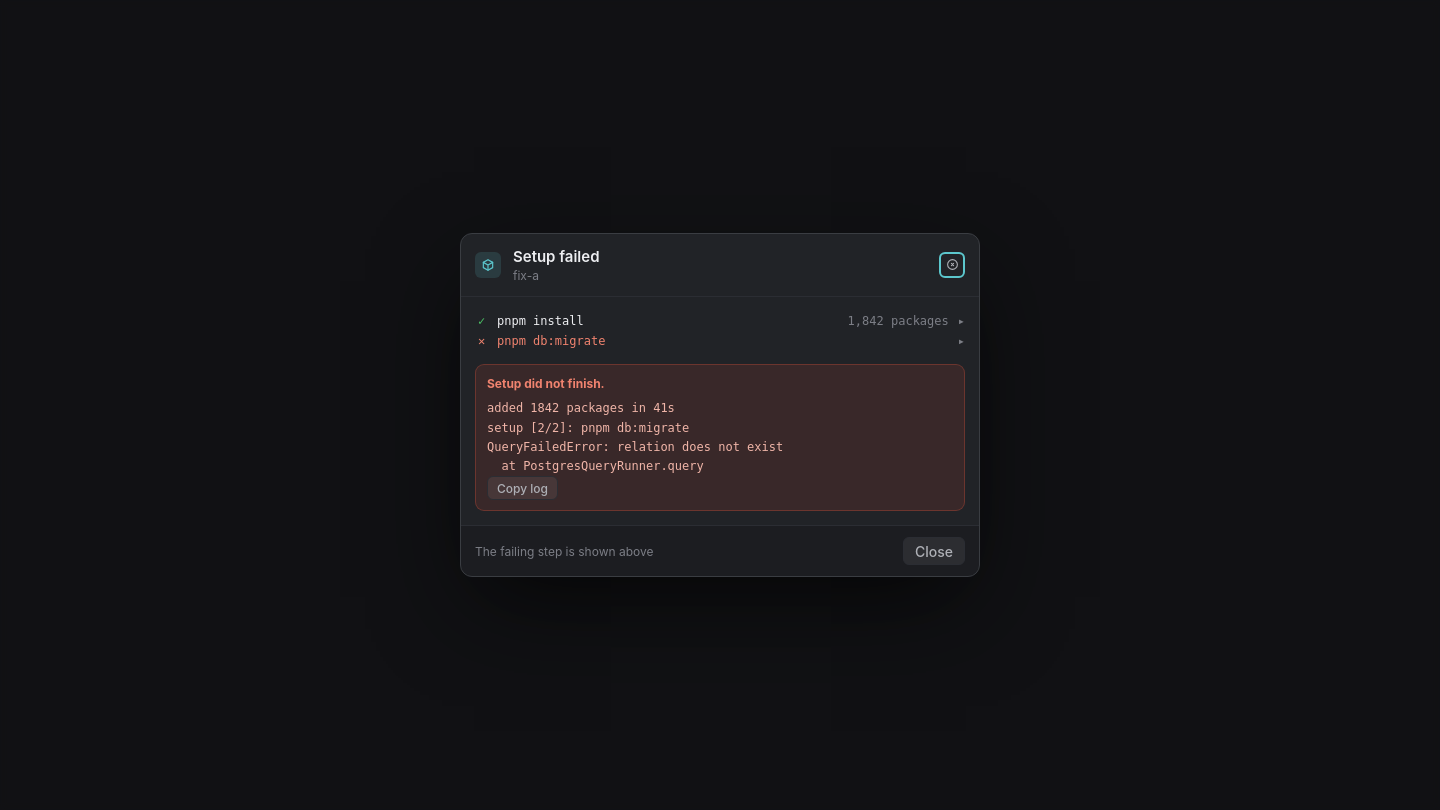
Test: the setup runner › leaves the failed step collapsed, and prints the failure once
Expected: the text "QueryFailedError" is shown, [487, 401, 783, 473]
// still openable for anyone who wants it beside the step
Click the button "✕ pnpm db:migrate ▸". click: click(551, 341)
box: [475, 334, 965, 348]
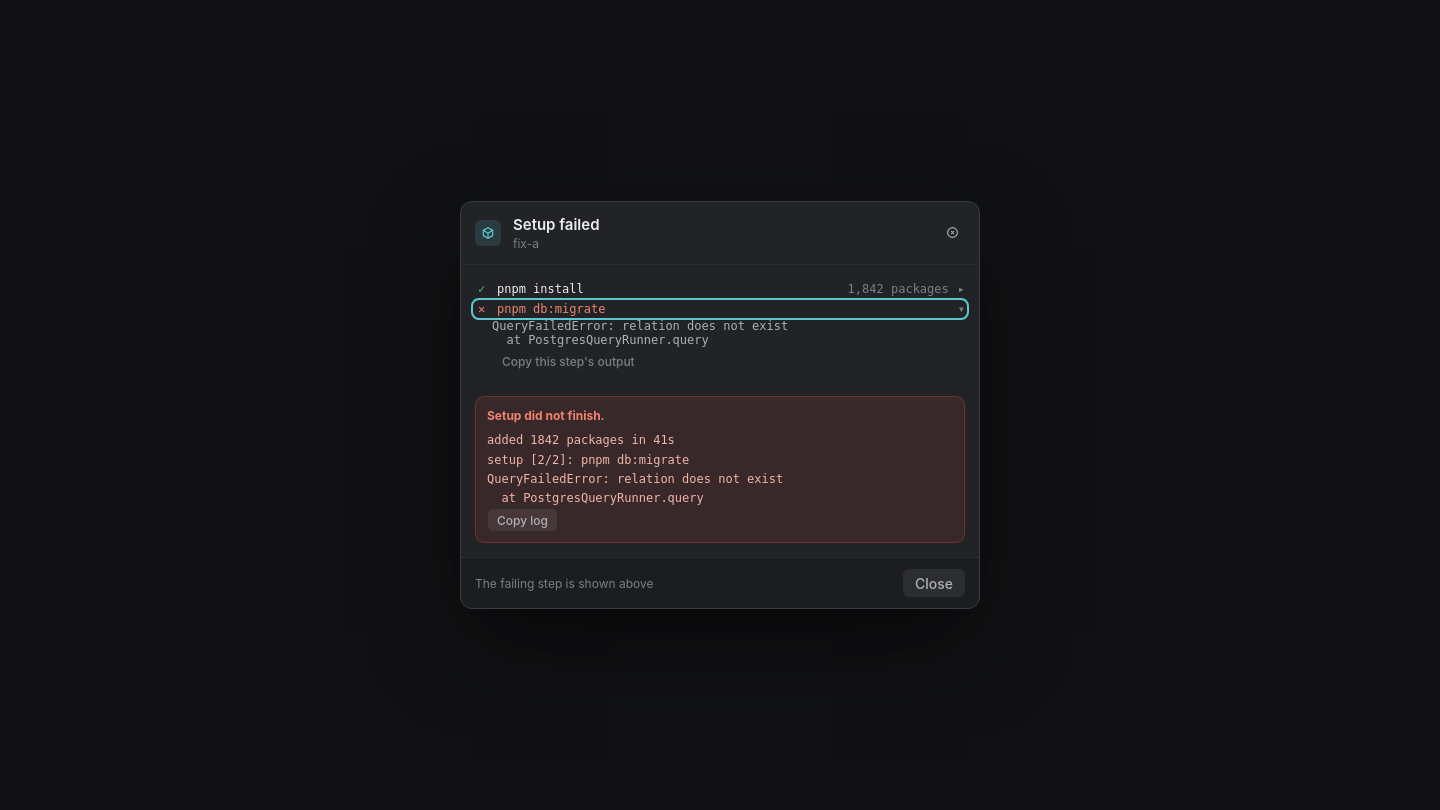
Result: the text "QueryFailedError" is shown at [492, 319, 788, 347]
